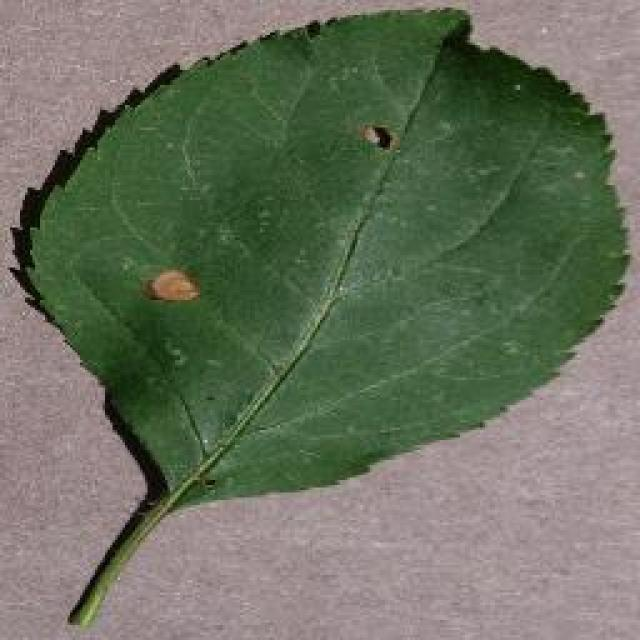Black_rot: (8, 2, 632, 628)
